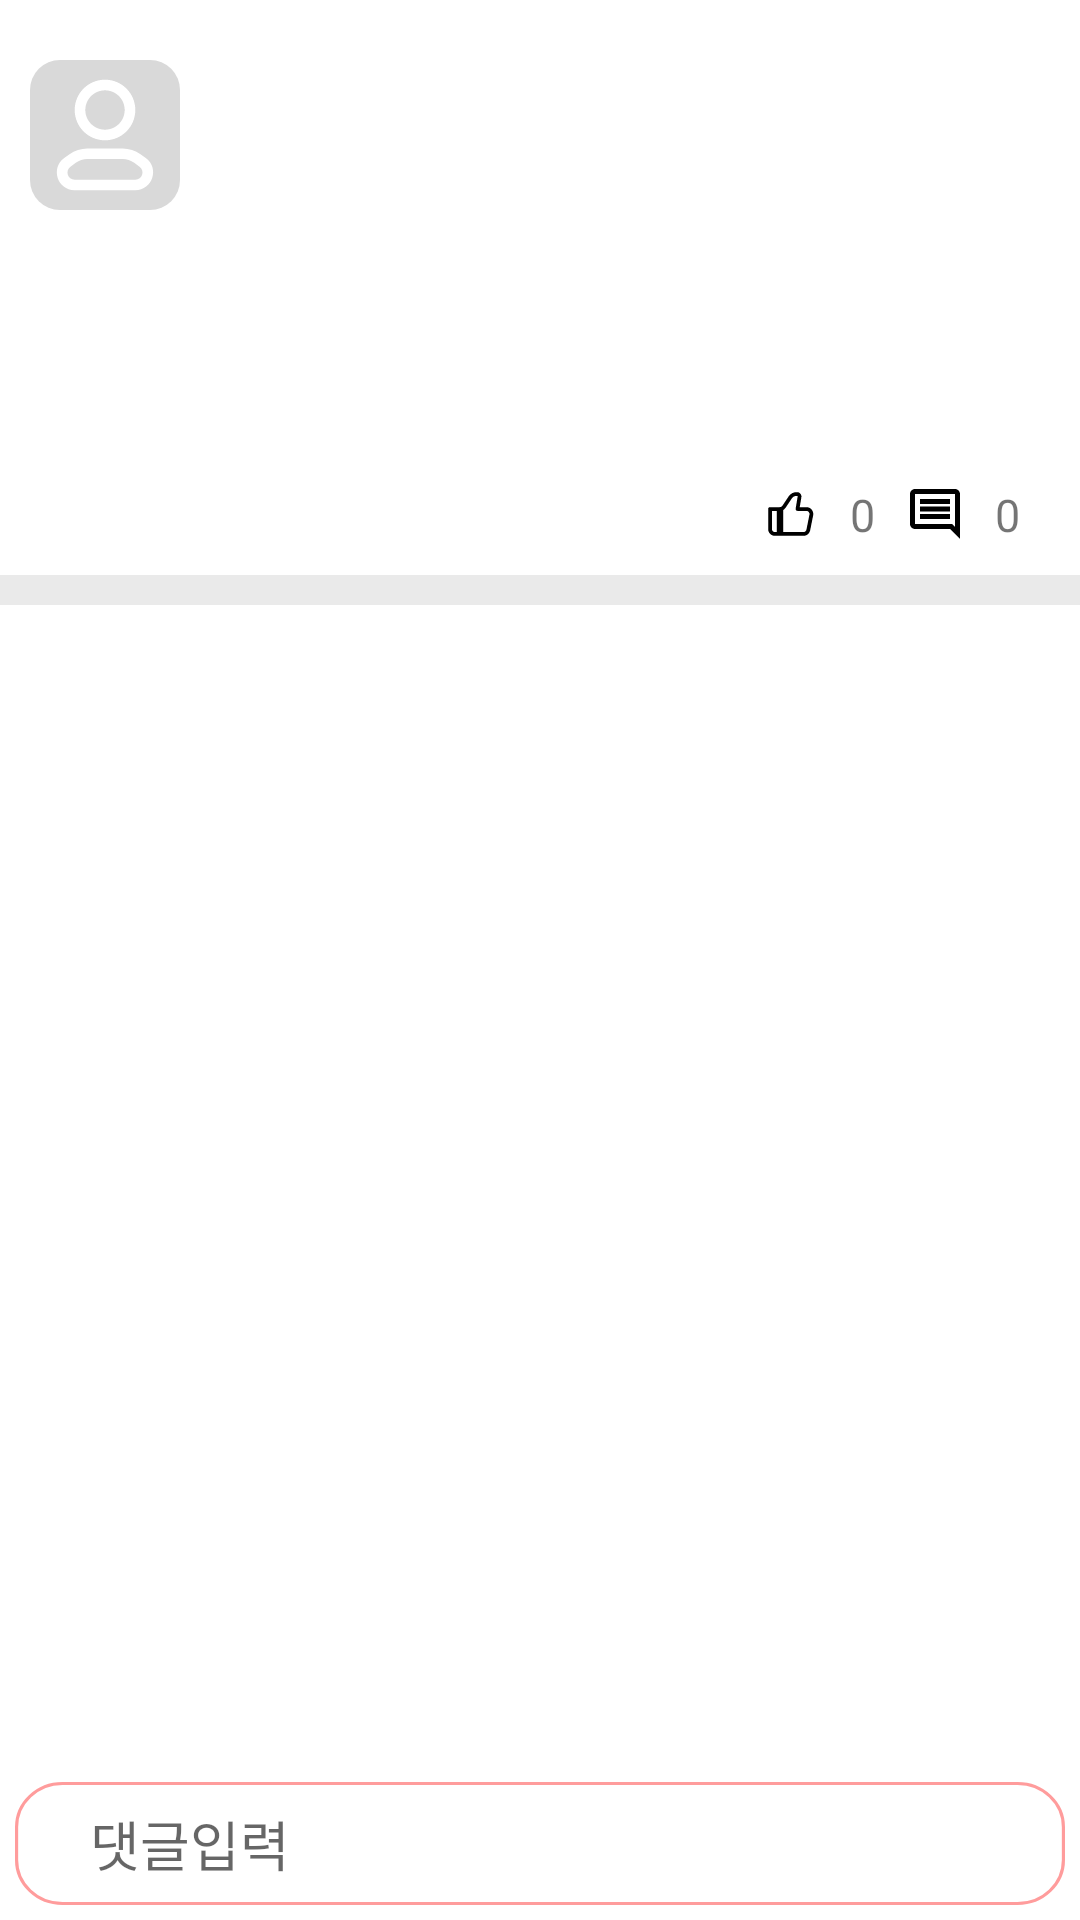

Icons on this 1080*1920 Android screen, each with its box as (x1=x1, y1=y1, x2=x2, y2=y2):
article comment: (x1=910, y1=489, x2=960, y2=539)
article like: (x1=768, y1=492, x2=814, y2=536)
tap account: (x1=30, y1=60, x2=180, y2=210)
